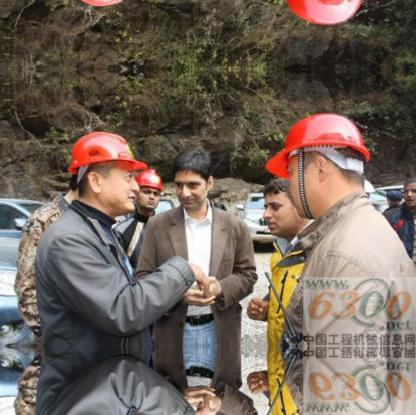head: (169, 142, 214, 207), (256, 174, 302, 234), (401, 177, 414, 211)
helmet: (265, 109, 369, 224), (64, 123, 138, 214), (265, 0, 370, 28), (131, 167, 161, 212)
